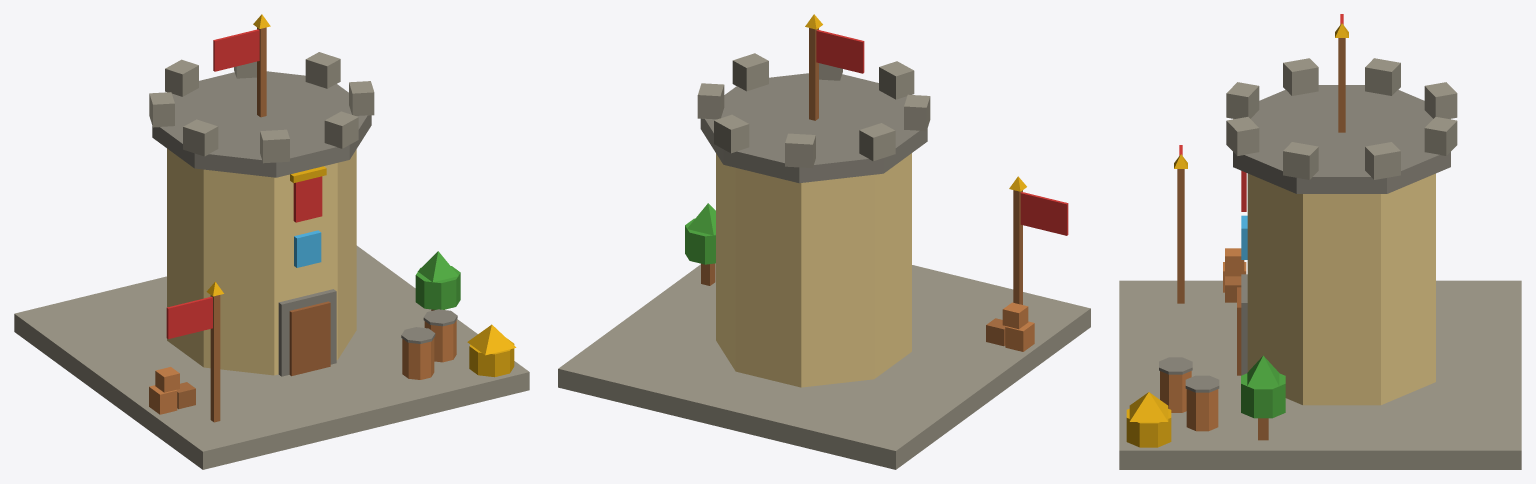
File: defense_tower_t2_v2.glb
3 renders of one model, left to right at view 1: azimuth 30°, elevation 25°; view 2: azimuth 150°, elevation 25°; view 3: azimuth 270°, elevation 25°, orthographic. The views are drawn at different scales.
Visible parts, largest first — view 1: defense_tower_t2_v2; view 2: defense_tower_t2_v2; view 3: defense_tower_t2_v2.
Boxes of the visible parts, x1=… form: defense_tower_t2_v2: x1=14, y1=14, x2=529, y2=469; defense_tower_t2_v2: x1=558, y1=14, x2=1090, y2=469; defense_tower_t2_v2: x1=1119, y1=14, x2=1521, y2=469.
Size of the model in its own units: 0.765 by 0.745 by 0.75.
1 material, 1 textured.
